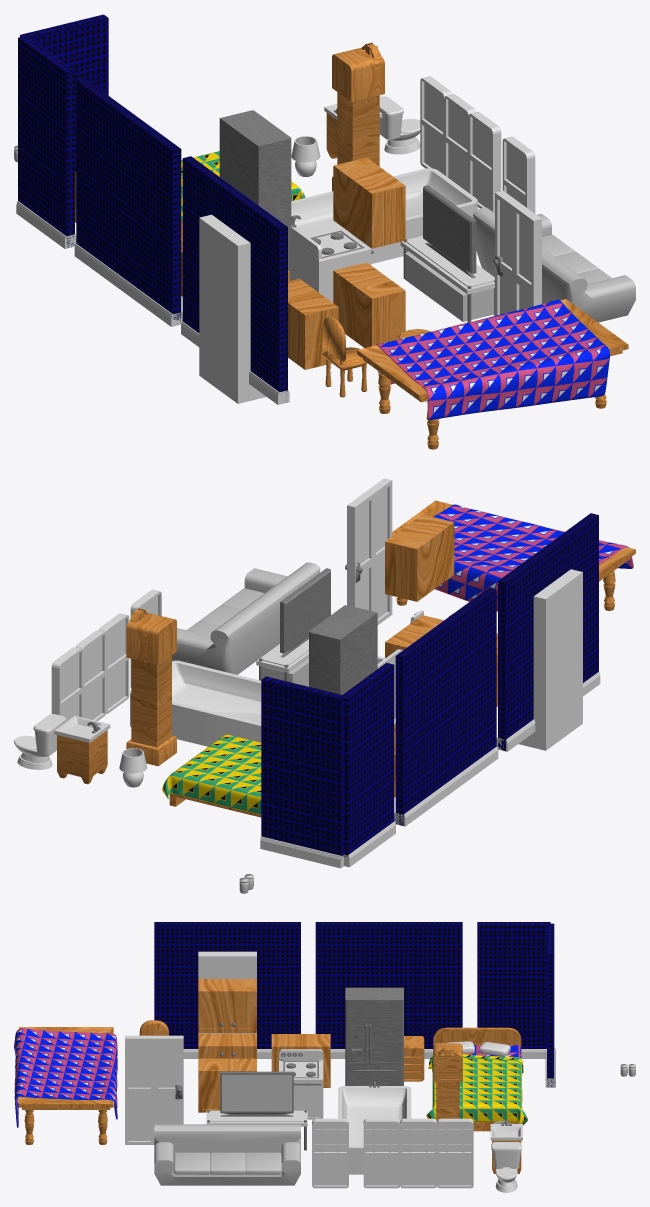
File: PeanutJar.fbx
The picture shows the model from 3 angles, top to bottom: view 1: azimuth 30°, elevation 25°; view 2: azimuth 150°, elevation 25°; view 3: azimuth 270°, elevation 25°; orthographic projection. The views are drawn at different scales.
Visible parts, largest first — view 1: Plane, Wall, Wall.Corner, Wall.Doorway, CupboardsFull, Cube, Window 1x3, Fridge, Couch, Grandfather Clock, Door, Bathtub (+10 smaller); view 2: Wall.Corner, Wall, Wall.Doorway, Plane, Cube, Couch, Bathtub, Grandfather Clock, Window 1x3, CupboardsFull, Bed, Door (+7 smaller); view 3: Wall, Wall.Doorway, Wall.Corner, Plane, Couch, Window 1x3, Bed, Door, Fridge, CupboardsFull, TV, Bathtub (+11 smaller).
Boxes of the visible parts, x1=… form: Plane: x1=357, y1=299, x2=628, y2=449; Wall: x1=74, y1=78, x2=182, y2=326; Wall.Corner: x1=16, y1=14, x2=108, y2=248; Wall.Doorway: x1=181, y1=156, x2=289, y2=404; CupboardsFull: x1=333, y1=157, x2=405, y2=347; Cube: x1=199, y1=214, x2=266, y2=403; Window 1x3: x1=420, y1=76, x2=501, y2=212; Fridge: x1=219, y1=110, x2=291, y2=271; Couch: x1=473, y1=207, x2=635, y2=322; Grandfather Clock: x1=332, y1=42, x2=384, y2=191; Door: x1=493, y1=190, x2=541, y2=315; Bathtub: x1=291, y1=168, x2=477, y2=263; Wall.Corner: x1=260, y1=662, x2=395, y2=868; Wall: x1=394, y1=588, x2=498, y2=826; Wall.Doorway: x1=496, y1=513, x2=600, y2=751; Plane: x1=392, y1=500, x2=635, y2=611; Cube: x1=518, y1=569, x2=582, y2=750; Couch: x1=172, y1=562, x2=320, y2=674; Bathtub: x1=130, y1=660, x2=261, y2=746; Grandfather Clock: x1=126, y1=608, x2=176, y2=766; Window 1x3: x1=51, y1=613, x2=129, y2=722; CupboardsFull: x1=385, y1=514, x2=454, y2=657; Bed: x1=162, y1=734, x2=261, y2=817; Door: x1=345, y1=478, x2=392, y2=624; Wall: x1=315, y1=922, x2=462, y2=1058; Wall.Doorway: x1=154, y1=922, x2=300, y2=1058; Wall.Corner: x1=477, y1=922, x2=555, y2=1087; Plane: x1=14, y1=1027, x2=117, y2=1144; Couch: x1=154, y1=1124, x2=300, y2=1185; Window 1x3: x1=363, y1=1118, x2=473, y2=1188; Bed: x1=426, y1=1027, x2=527, y2=1131; Door: x1=125, y1=1035, x2=183, y2=1144; Fridge: x1=345, y1=987, x2=403, y2=1085; CupboardsFull: x1=198, y1=979, x2=256, y2=1112; TV: x1=220, y1=1071, x2=293, y2=1116; Bathtub: x1=338, y1=1081, x2=411, y2=1174.
Size of the model in its own units: 2315 by 1100 by 4236.
